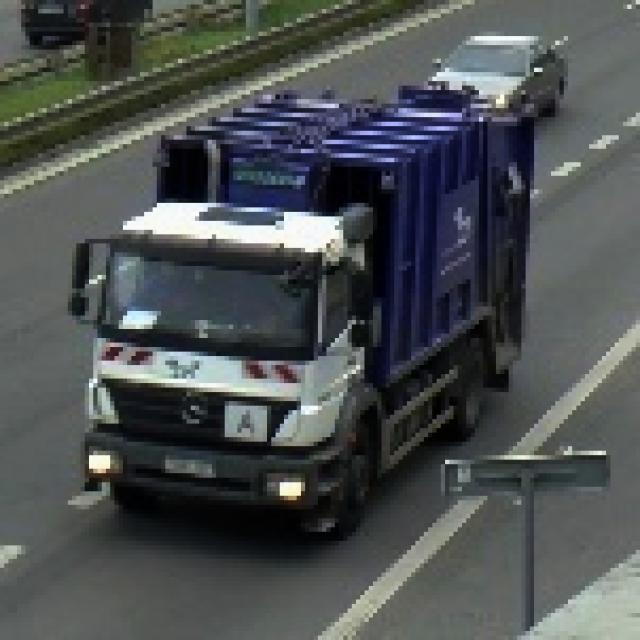truck: (65, 78, 535, 542)
